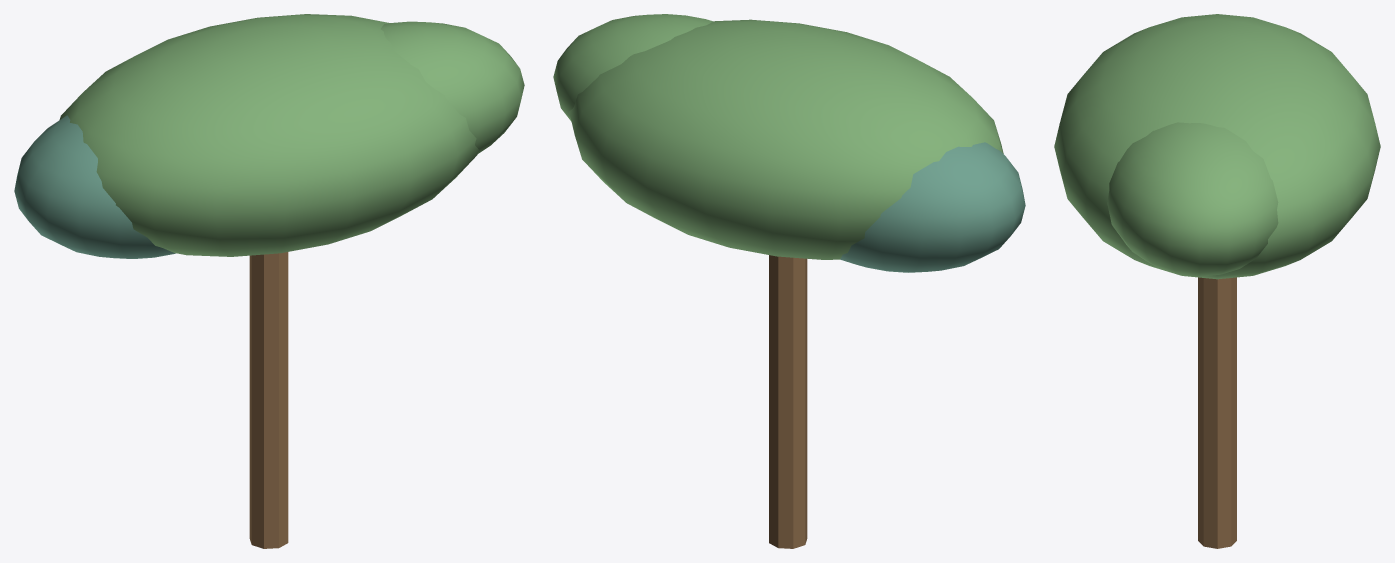
Rendered from sokpop_tree.glb.
3 renders of one model, left to right at view 1: azimuth 30°, elevation 25°; view 2: azimuth 150°, elevation 25°; view 3: azimuth 270°, elevation 25°, orthographic. The views are drawn at different scales.
Visible parts, largest first — view 1: sokpop_tree_root; view 2: sokpop_tree_root; view 3: sokpop_tree_root.
Part boxes in pixels (bbox=[...]): sokpop_tree_root: bbox=[14, 14, 524, 548]; sokpop_tree_root: bbox=[553, 14, 1025, 548]; sokpop_tree_root: bbox=[1054, 14, 1380, 548].
Bounding box in the file's own units: 4.98 × 5 × 3.06.
